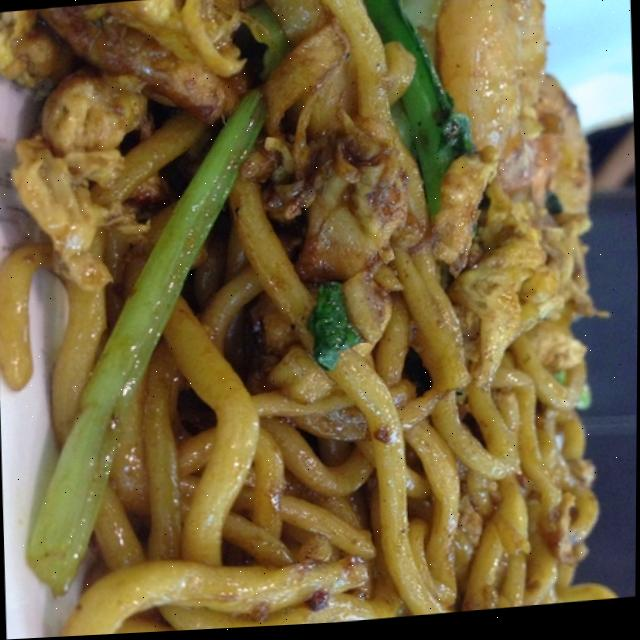面条主食: (20, 0, 627, 639)
